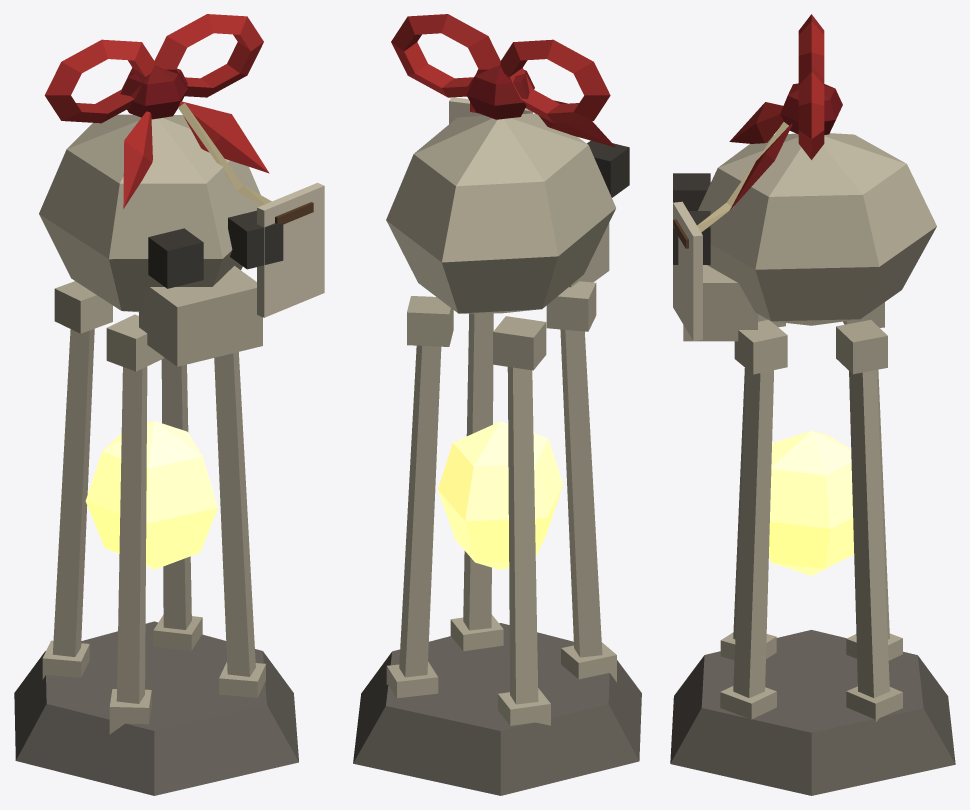
The model's file is quest_bone_lantern.glb.
3 views of the same model, side by side, from view 1: azimuth 30°, elevation 25°; view 2: azimuth 150°, elevation 25°; view 3: azimuth 270°, elevation 25° (orthographic). The views are drawn at different scales.
Visible parts, largest first — view 1: quest_bone_lantern; view 2: quest_bone_lantern; view 3: quest_bone_lantern.
Boxes of the visible parts, box(x1,y1,x2,y2) form: quest_bone_lantern: box(14, 14, 324, 795); quest_bone_lantern: box(353, 14, 641, 795); quest_bone_lantern: box(670, 14, 955, 795).
Bounding box in the file's own units: 0.19 × 0.4573 × 0.1731.
